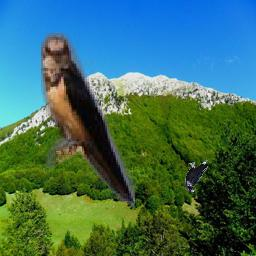Crow: (186, 160, 209, 193)
Swallow: (41, 34, 135, 209)
